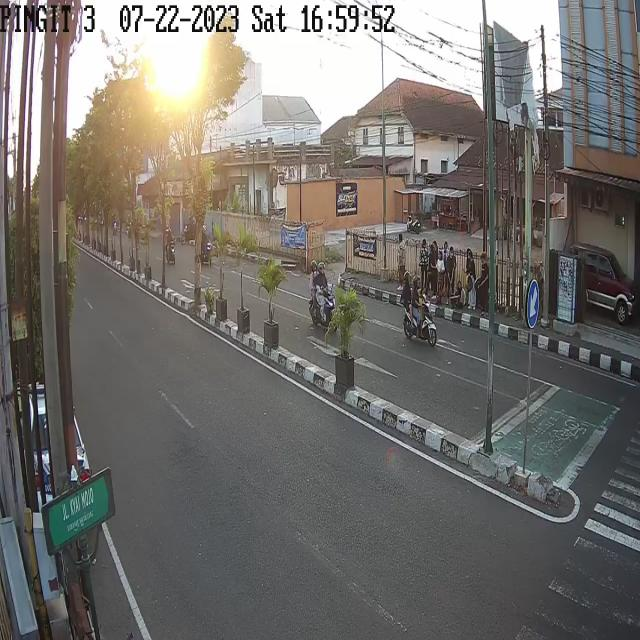car: (578, 245, 638, 327)
motorcycle: (400, 276, 437, 348), (307, 256, 334, 333), (160, 223, 177, 269), (197, 222, 211, 260)
